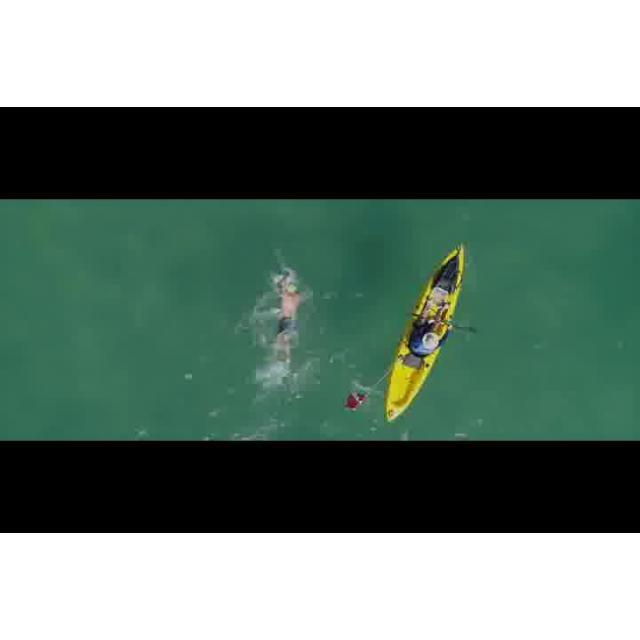human: (272, 251, 304, 369)
